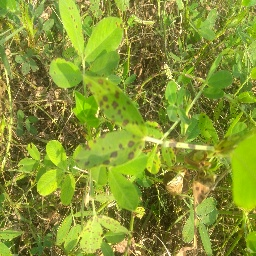GroundNut_Leaf: (86, 76, 146, 128), (73, 130, 141, 165), (57, 1, 85, 54), (88, 16, 124, 50), (49, 57, 83, 89), (80, 217, 103, 253), (55, 218, 79, 249), (46, 139, 68, 170), (89, 52, 119, 73), (38, 172, 59, 197), (147, 145, 161, 176), (209, 70, 233, 88), (62, 174, 74, 206), (165, 79, 176, 109), (26, 141, 41, 160)
